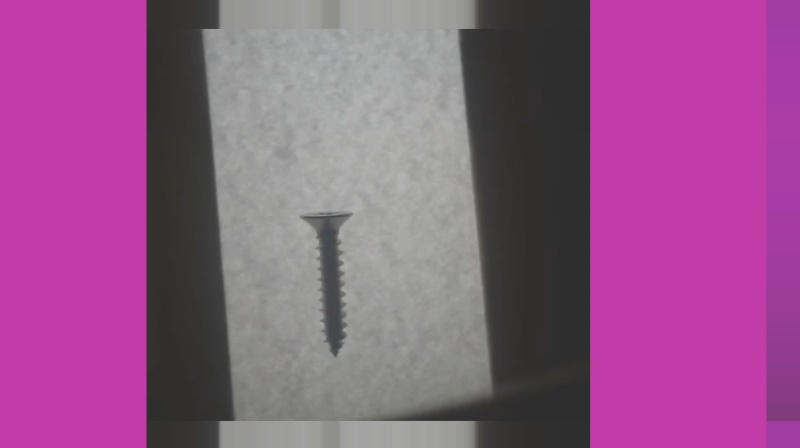S001: (298, 207, 351, 361)
